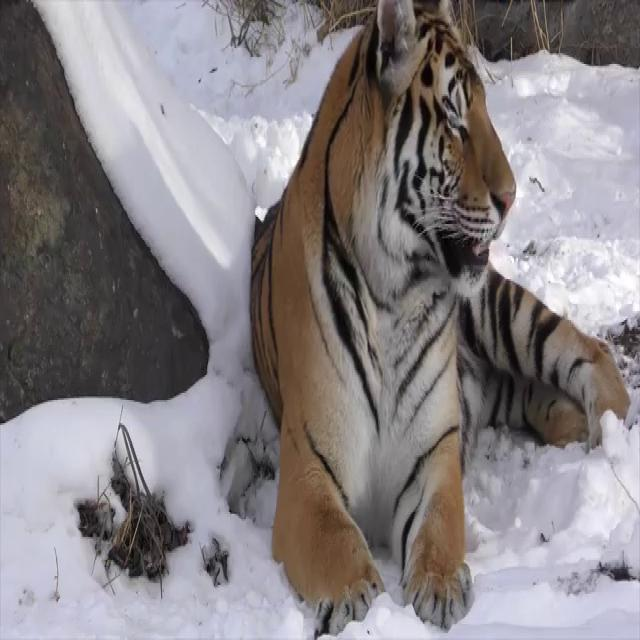tiger: (247, 0, 633, 629)
